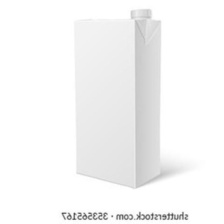carton: (65, 6, 170, 191)
